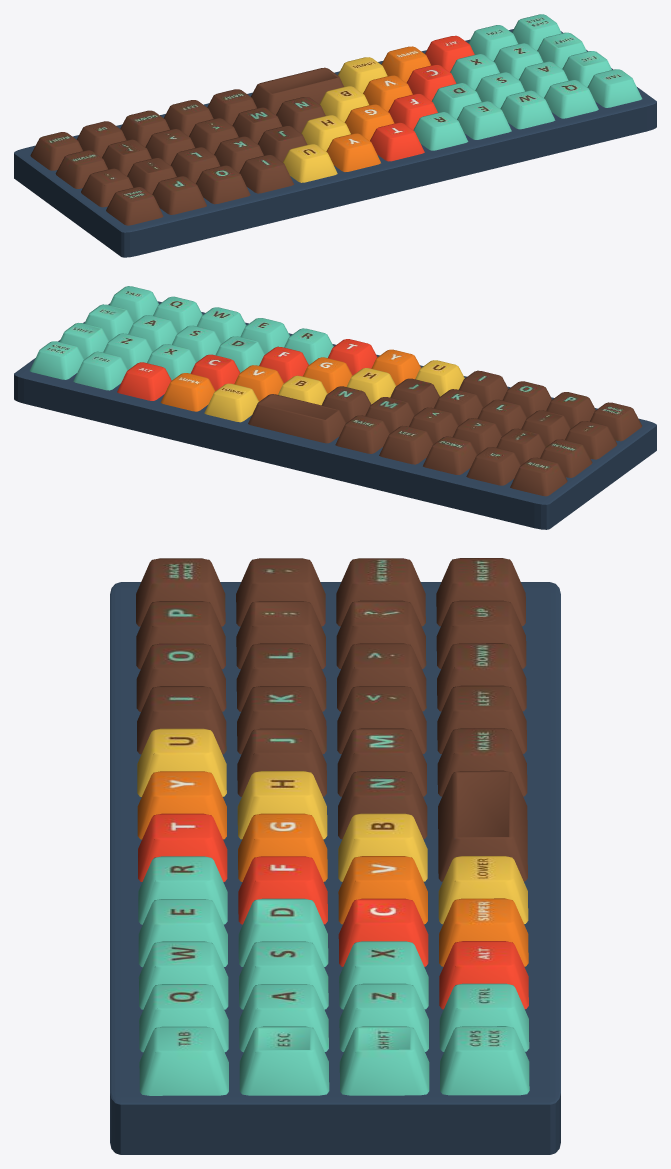
The model's file is keyboardFinal.fbx.
3 views of the same model, one above another, from view 1: azimuth 30°, elevation 25°; view 2: azimuth 150°, elevation 25°; view 3: azimuth 270°, elevation 25° (orthographic). The views are drawn at different scales.
Parts seen in each view (by area): view 1: keyboard.001, keyboard, keyboard.003, keyboard.002; view 2: keyboard.001, keyboard, keyboard.003, keyboard.002; view 3: keyboard.003, keyboard.001, keyboard, keyboard.002.
Part boxes in pixels (x1,y1,x2,y2): keyboard.001: (160,67,435,225); keyboard: (14,110,261,257); keyboard.003: (421,14,656,161); keyboard.002: (334,46,522,182); keyboard.001: (235,339,510,497); keyboard: (409,381,656,529); keyboard.003: (14,286,248,433); keyboard.002: (148,318,335,454); keyboard.003: (110,941,560,1154); keyboard.001: (110,685,560,886); keyboard: (110,558,560,715); keyboard.002: (110,856,560,970).
Size of the model in its own units: 138 by 11.13 by 50.23.
Materials: 2 (2 with a texture image).
